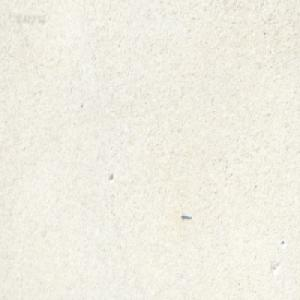Nail: (181, 213, 191, 221)
